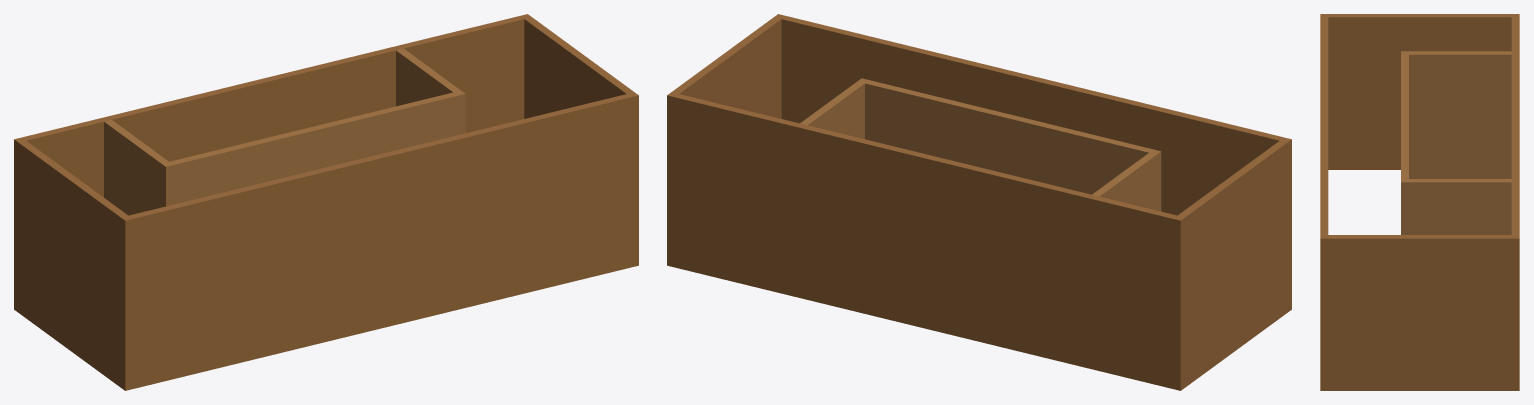
Rendered from product_07_scandinavian_round_stool.glb.
3 renders of one model, left to right at view 1: azimuth 30°, elevation 25°; view 2: azimuth 150°, elevation 25°; view 3: azimuth 270°, elevation 25°, orthographic. The views are drawn at different scales.
Visible parts, largest first — view 1: geometry_0; view 2: geometry_0; view 3: geometry_0.
Boxes of the visible parts, x1=… form: geometry_0: x1=14, y1=14, x2=638, y2=390; geometry_0: x1=667, y1=14, x2=1291, y2=390; geometry_0: x1=1320, y1=14, x2=1519, y2=390.
Size of the model in its own units: 1.2 by 0.38 by 0.45.
